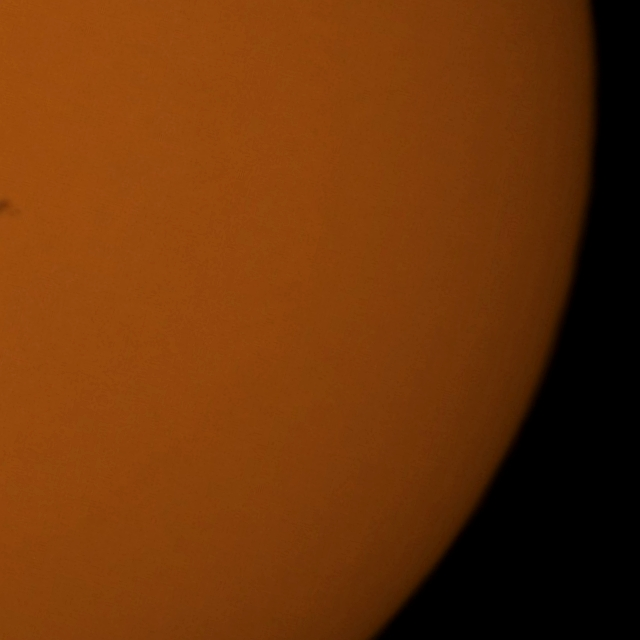sunspot: (0, 180, 31, 227)
